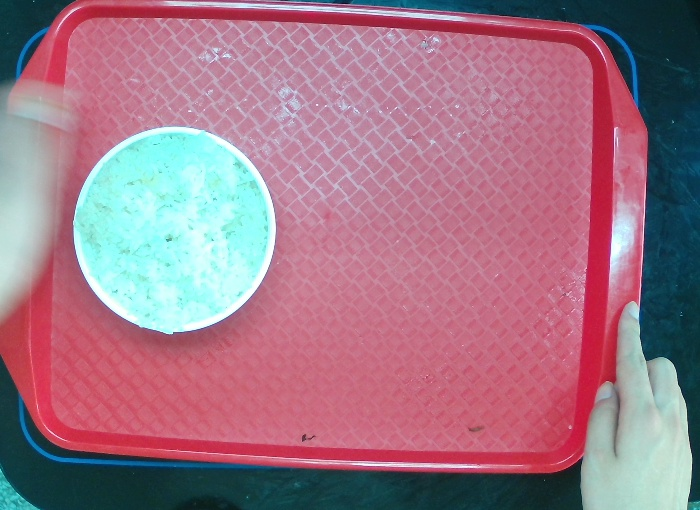YKMZ-Fan_Wan: (65, 117, 284, 343)
